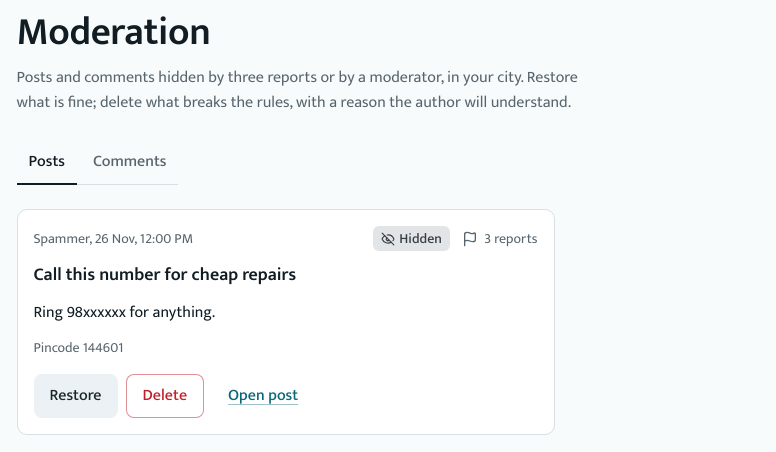
Test: Moderation queue › restores at once and sends the action
Click the button "Restore": x=76, y=396 [34,374,118,418]
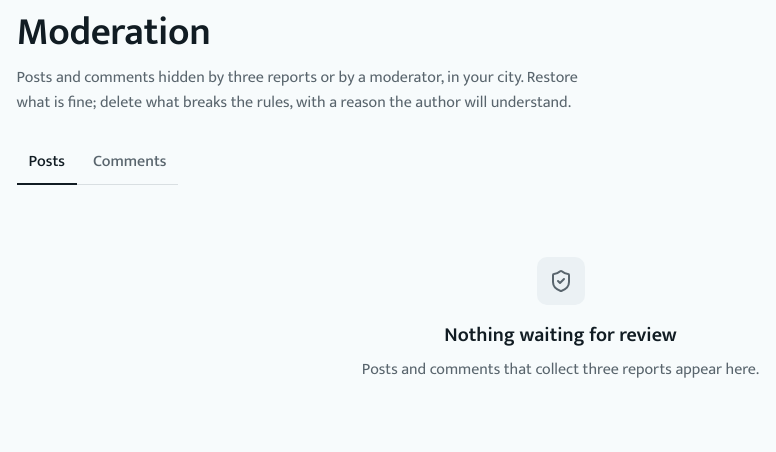
Now the heading "Call this number for cheap repairs" is gone
